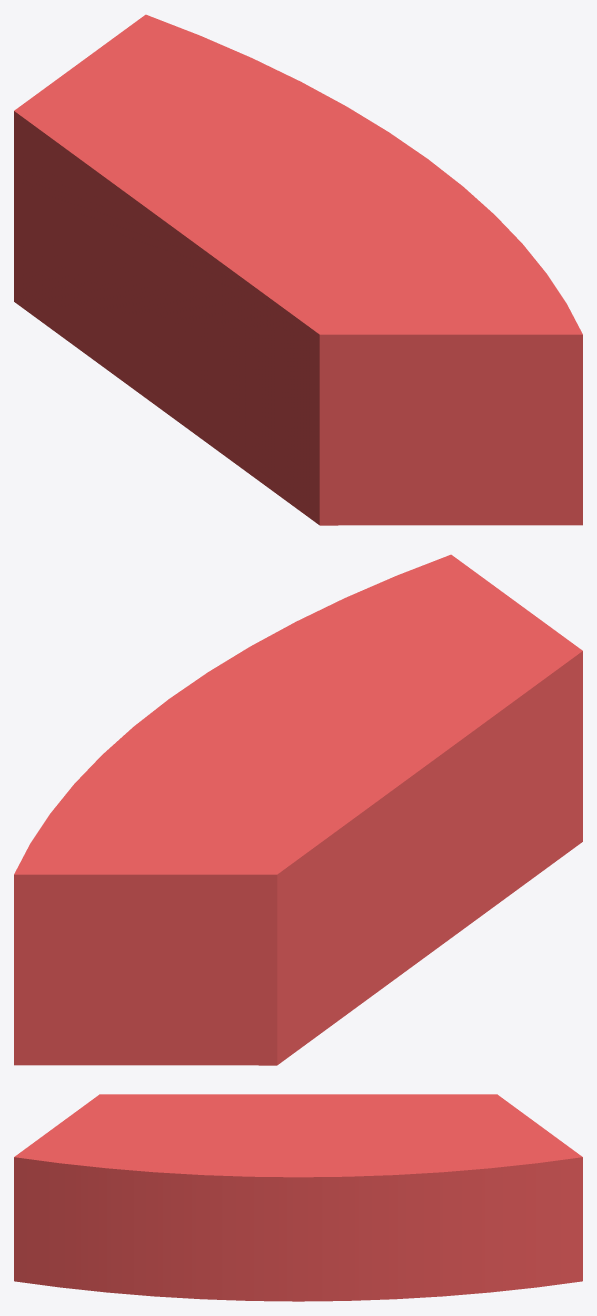
The model's file is vermelho_claro.obj.
The picture shows the model from 3 angles, top to bottom: view 1: azimuth 30°, elevation 25°; view 2: azimuth 150°, elevation 25°; view 3: azimuth 270°, elevation 25°; orthographic projection. The views are drawn at different scales.
Visible parts, largest first — view 1: Mesh1 Group2 Group1 Model, Mesh2 Group1 Model; view 2: Mesh1 Group2 Group1 Model, Mesh2 Group1 Model; view 3: Mesh1 Group2 Group1 Model.
Part boxes in pixels (bbox=[...]): Mesh1 Group2 Group1 Model: bbox=[14, 14, 582, 525]; Mesh2 Group1 Model: bbox=[14, 111, 319, 524]; Mesh1 Group2 Group1 Model: bbox=[14, 554, 582, 1065]; Mesh2 Group1 Model: bbox=[277, 651, 582, 1064]; Mesh1 Group2 Group1 Model: bbox=[14, 1094, 582, 1301].
Size of the model in its own units: 29.34 by 20.5 by 85.1.
